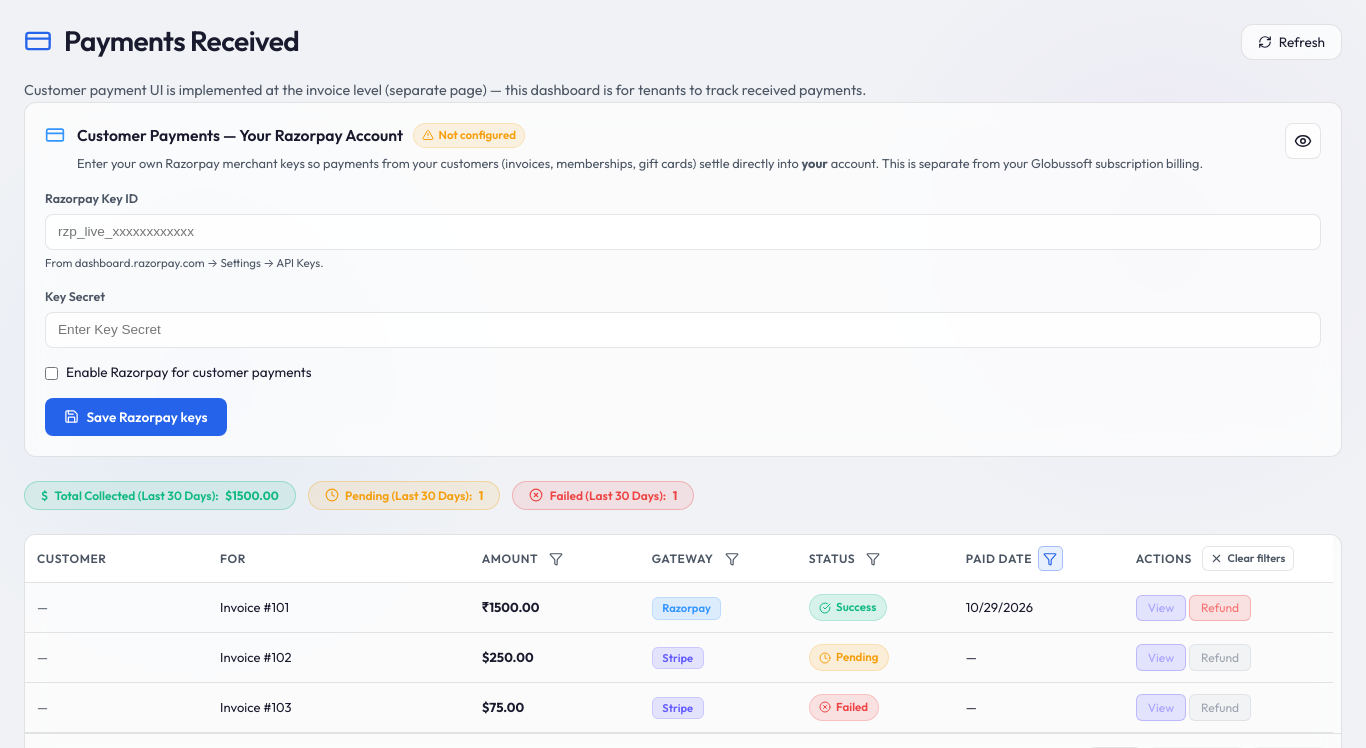
Test: <Payments /> — page surface › filters the Generic CRM ledger when an invoice-style payment stat is clicked
This screenshot has width=1366, height=748.
Expected: the text "Invoice #101" is shown, [220,599,289,615]
Click the button "Pending (Last 30 Days): 1" at coordinates (404, 495), box [308,480,500,510]
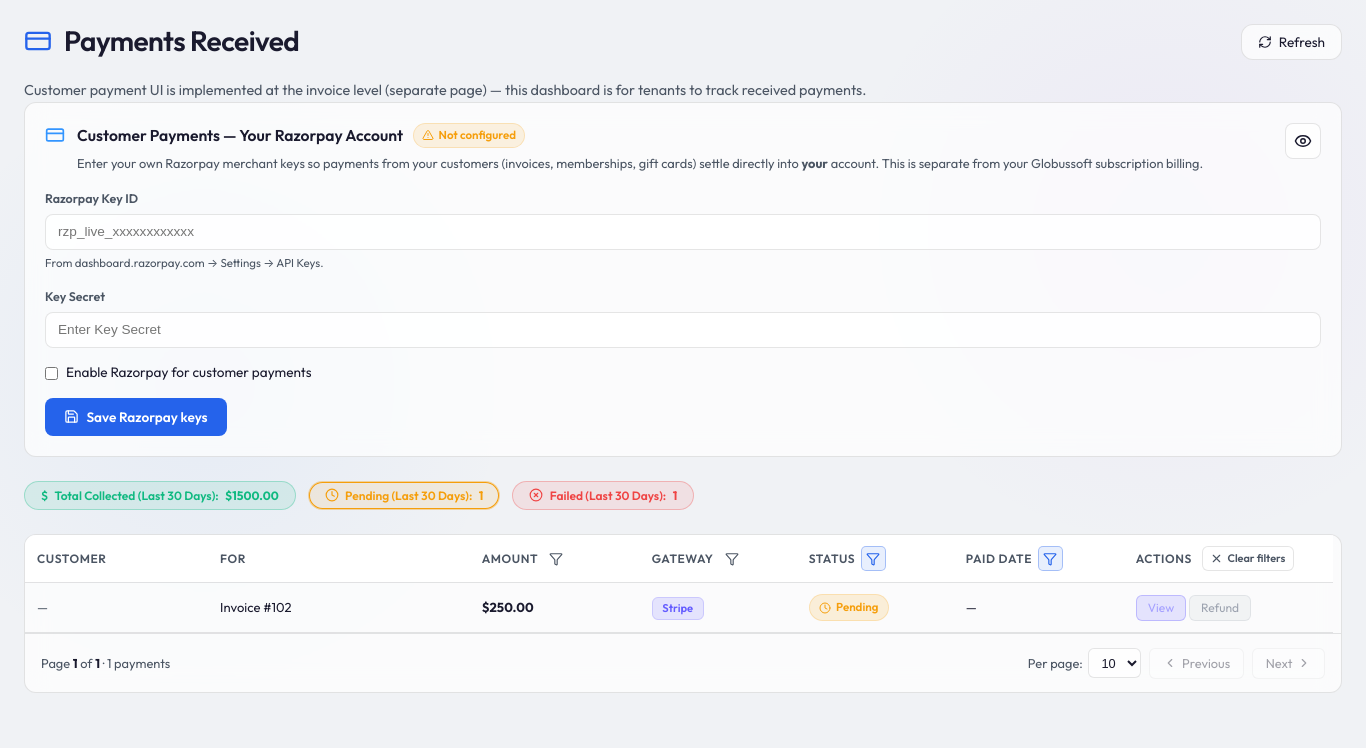
Expected: the text "Invoice #102" is shown, [220,599,292,615]
Now the text "Invoice #101" is gone
Now the text "Invoice #103" is gone
Click the button named "Filter Status" at coordinates (873, 559), box [861,546,886,571]
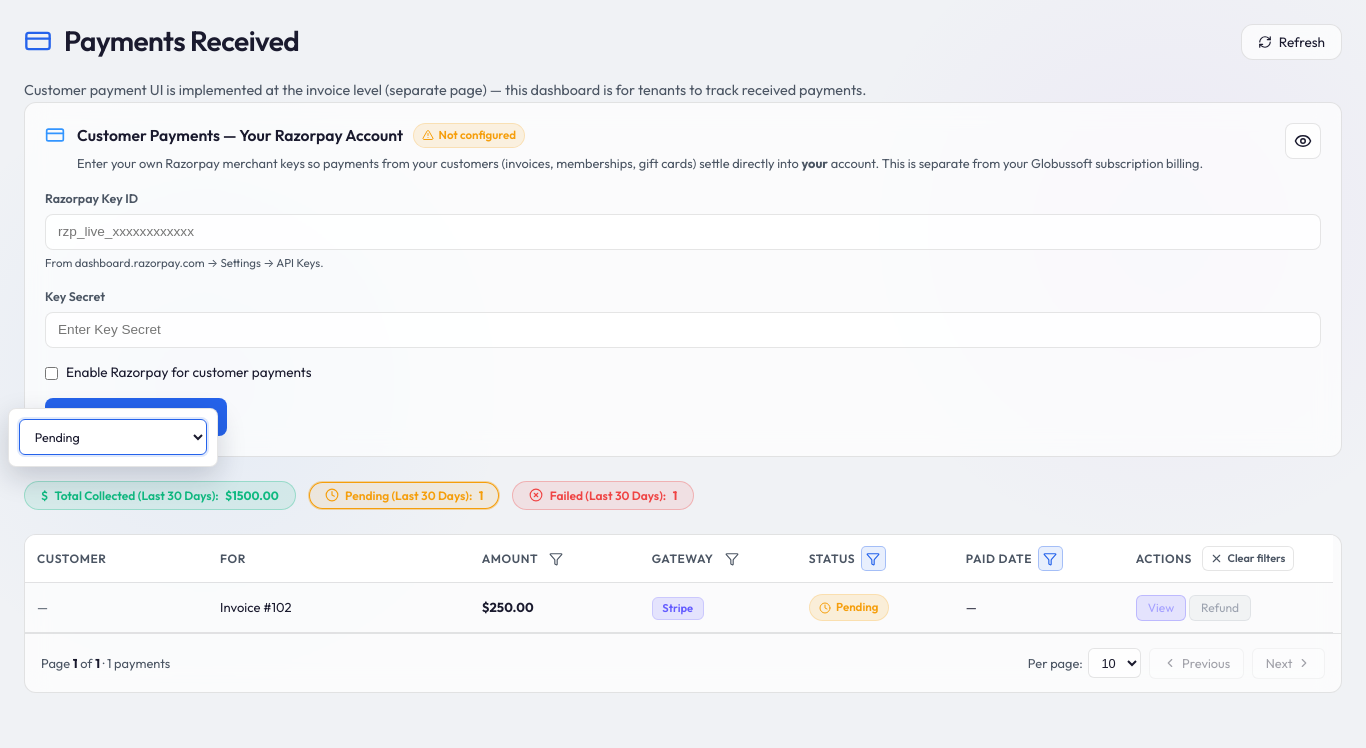
Now the dropdown named "Filter payments by status" shows "Pending", box [19,419,207,455]
Click the button "Pending (Last 30 Days): 1" at coordinates (404, 495), box [308,480,500,510]
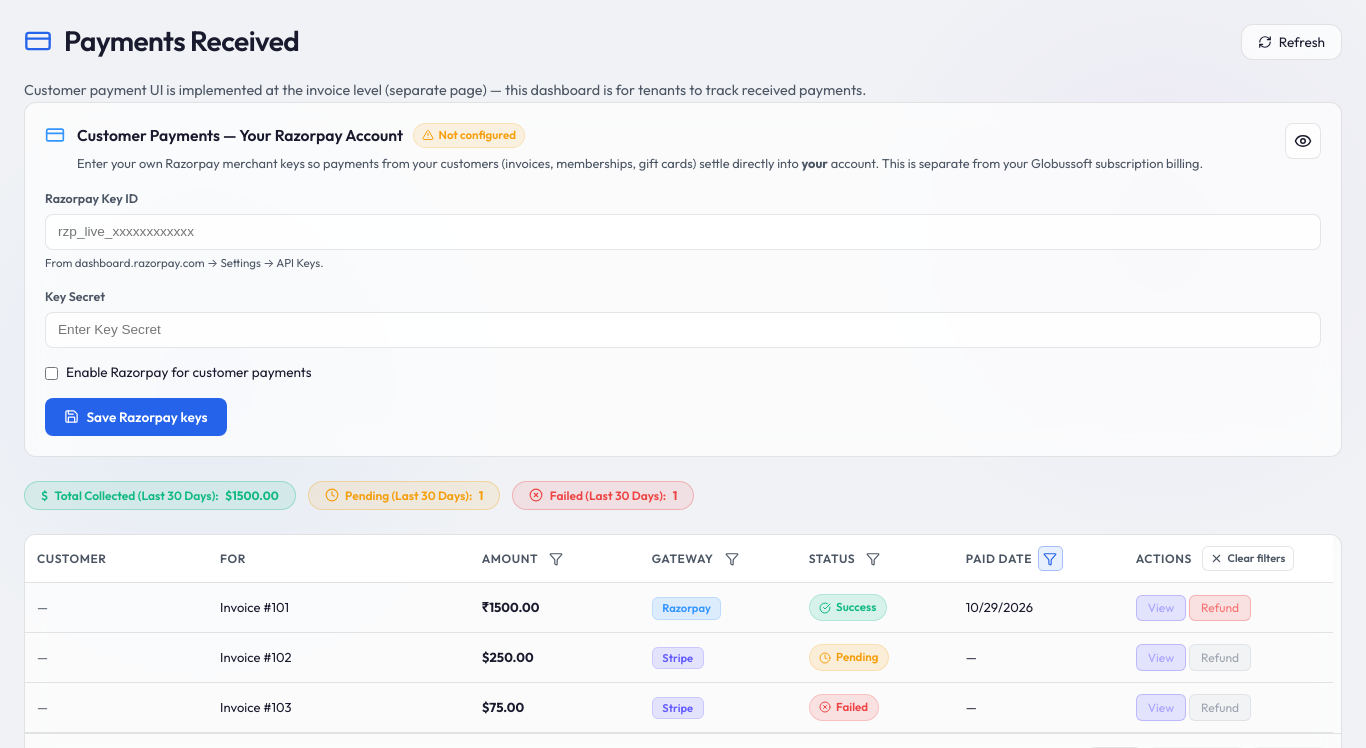
Now the text "Invoice #101" is shown, box [220,599,289,615]
Now the text "Invoice #103" is shown, box [220,699,292,715]
